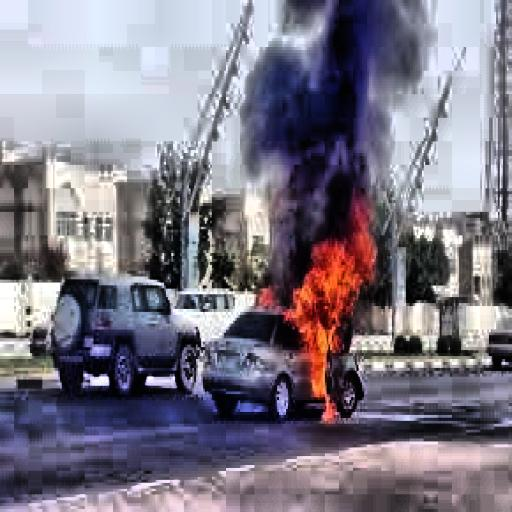fire: (264, 194, 386, 421)
